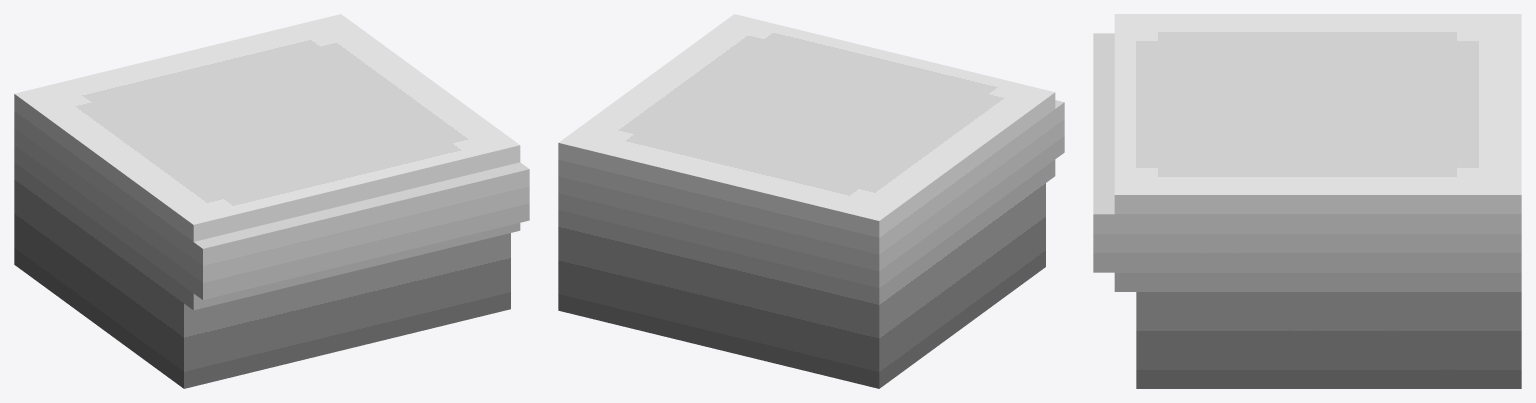
Rendered from half_top_edge.glb.
3 views of the same model, side by side, from view 1: azimuth 30°, elevation 25°; view 2: azimuth 150°, elevation 25°; view 3: azimuth 270°, elevation 25° (orthographic). The views are drawn at different scales.
Parts seen in each view (by area): view 1: half_top_edge; view 2: half_top_edge; view 3: half_top_edge.
Part boxes in pixels (left/top/right/bottom): half_top_edge: left=14, top=14, right=529, bottom=388; half_top_edge: left=558, top=14, right=1064, bottom=388; half_top_edge: left=1093, top=14, right=1521, bottom=388.
Size of the model in its own units: 2 by 1 by 2.
1 material, 1 textured.
